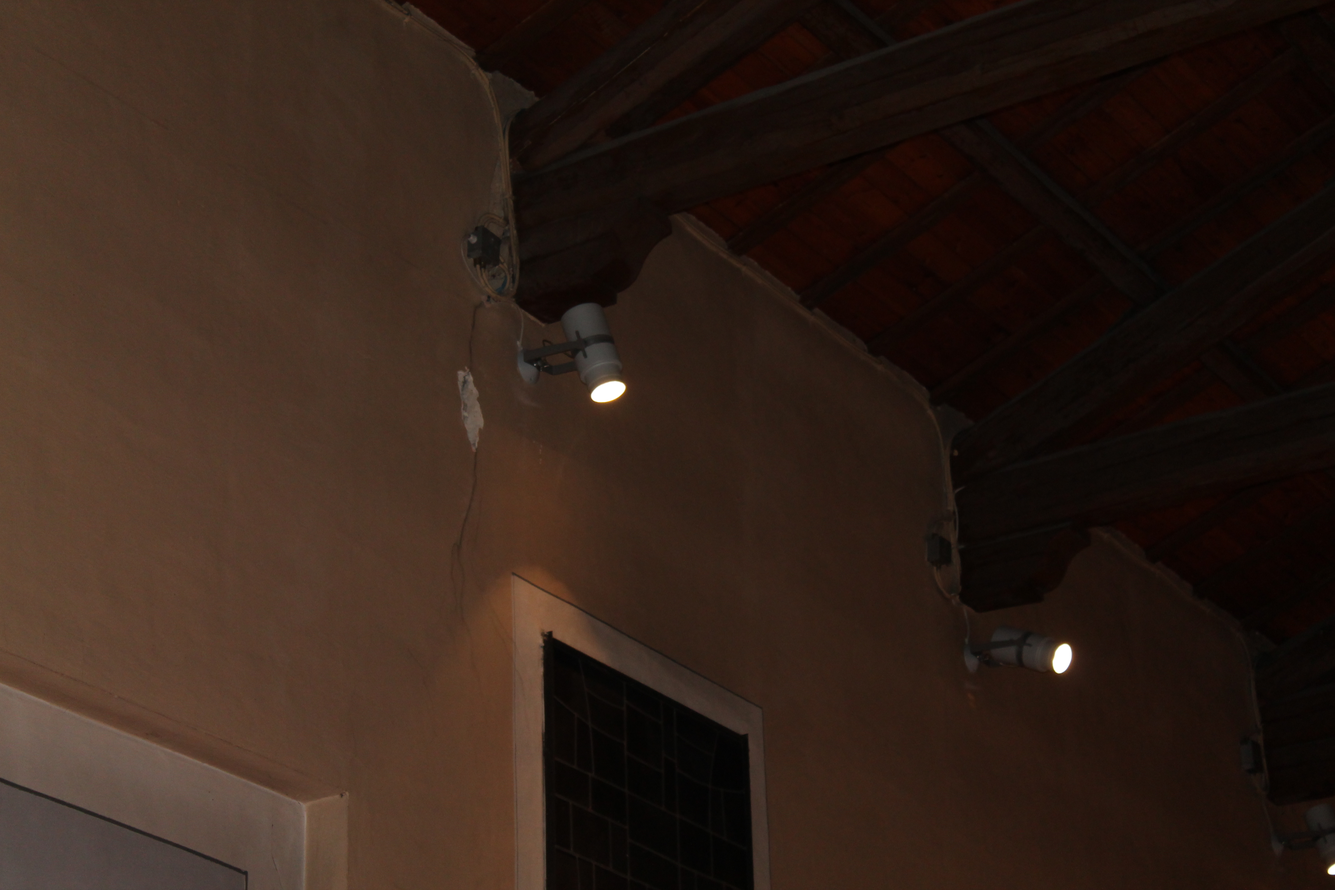Crack: (409, 227, 574, 711)
